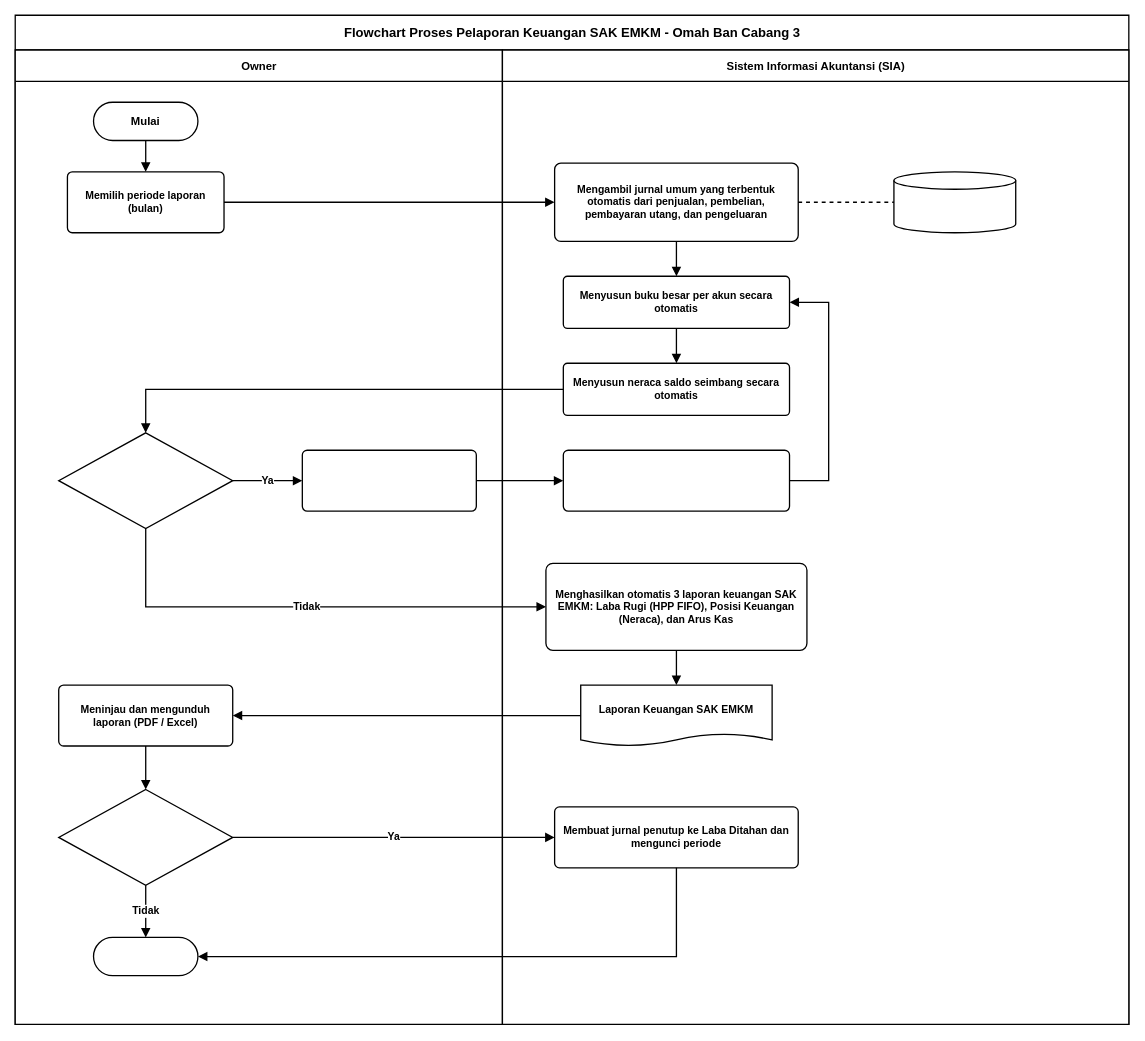
This 1145x1041 diagram has some shape labels left out. The centre of each missing label's shape, as x and y in pixels:
Database Jurnal & Buku Besar: the point at 954,202
Memposting jurnal penyesuaian ke buku besar: the point at 676,480
Menginput jurnal penyesuaian (contoh: penyusutan mesin): the point at 389,480
Perlu jurnal penyesuaian?: the point at 145,480
Selesai: the point at 145,956
Tutup buku periode?: the point at 145,836
